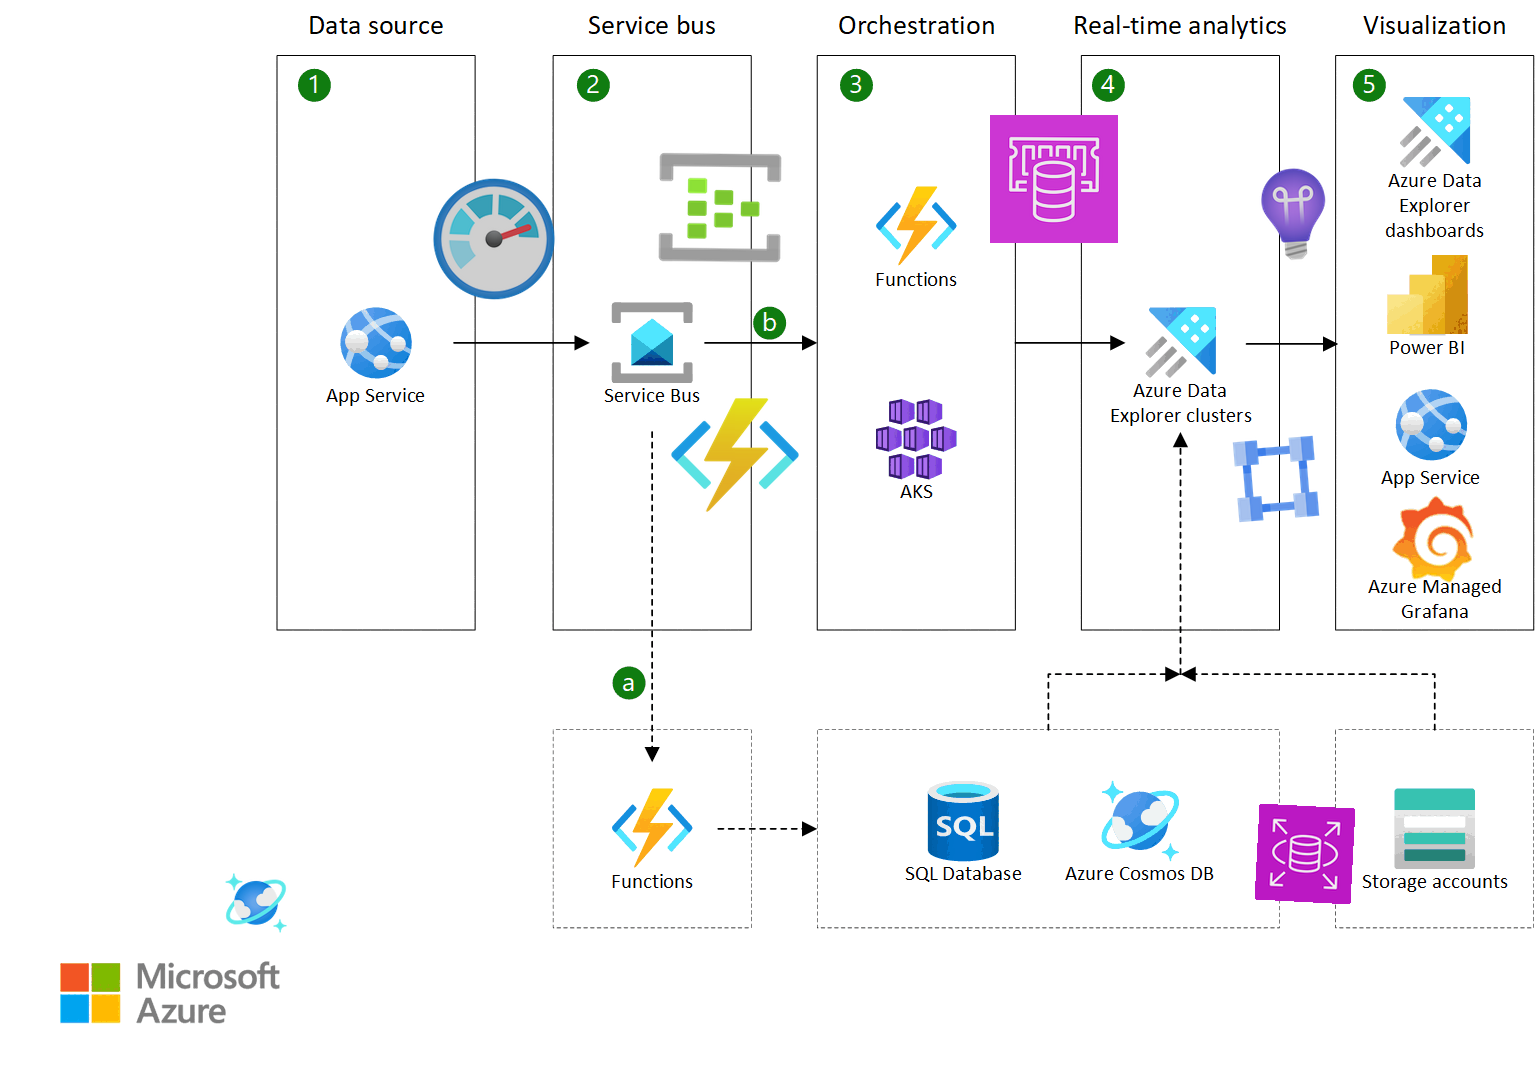aws_amazon_elasticache: (989, 114, 1119, 244)
aws_amazon_rds: (1254, 803, 1356, 905)
azure_application_insights: (1243, 163, 1345, 265)
azure_cosmos_db: (223, 870, 289, 936)
azure_event_hubs: (655, 142, 785, 272)
azure_function_apps: (670, 390, 800, 520)
azure_monitor: (427, 172, 561, 306)
gcp_virtual_private_cloud: (1224, 427, 1328, 531)
